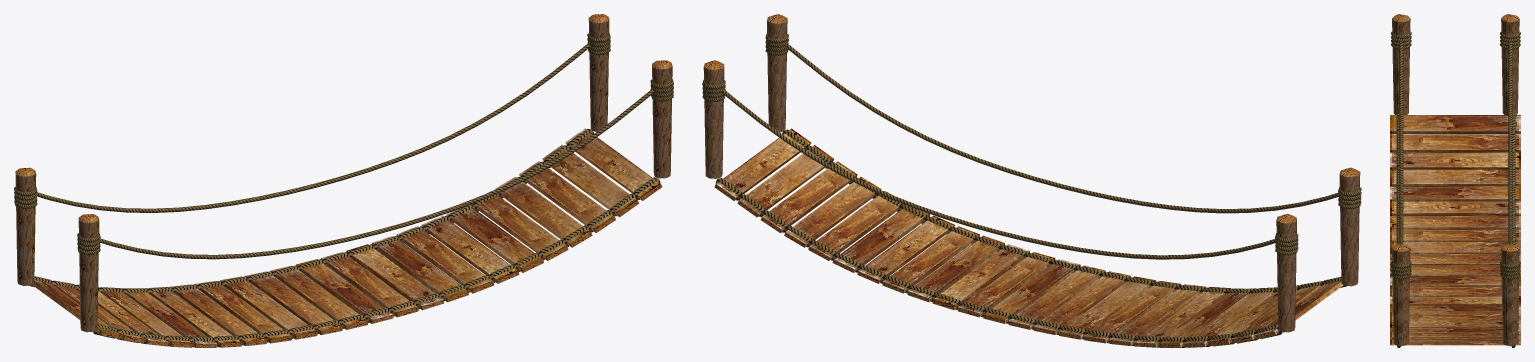
File: bridge.glb
3 views of the same model, side by side, from view 1: azimuth 30°, elevation 25°; view 2: azimuth 150°, elevation 25°; view 3: azimuth 270°, elevation 25° (orthographic). The views are drawn at different scales.
Parts seen in each view (by area): view 1: NurbsCurve.001_0; view 2: NurbsCurve.001_0; view 3: NurbsCurve.001_0.
Part boxes in pixels (x1,y1,x2,y2): NurbsCurve.001_0: (14, 14, 673, 347); NurbsCurve.001_0: (702, 14, 1361, 347); NurbsCurve.001_0: (1390, 14, 1520, 347).
Size of the model in its own units: 10.86 by 3.26 by 2.4.
Materials: 1 (1 with a texture image).
